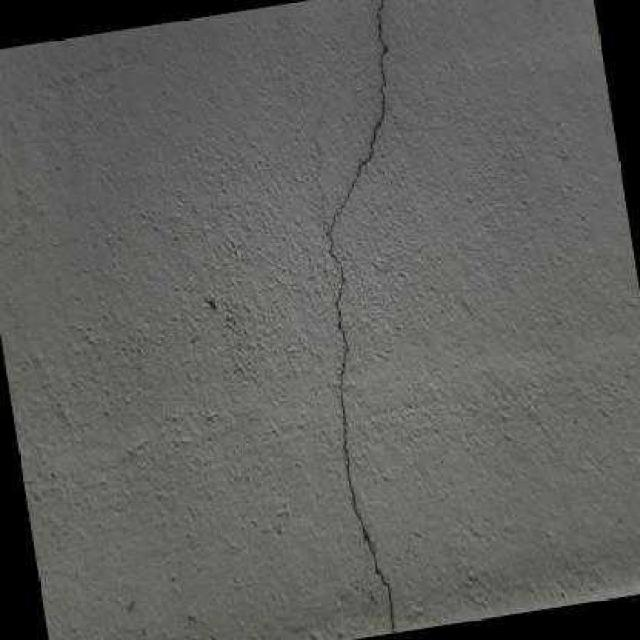D00: (324, 0, 394, 633)
